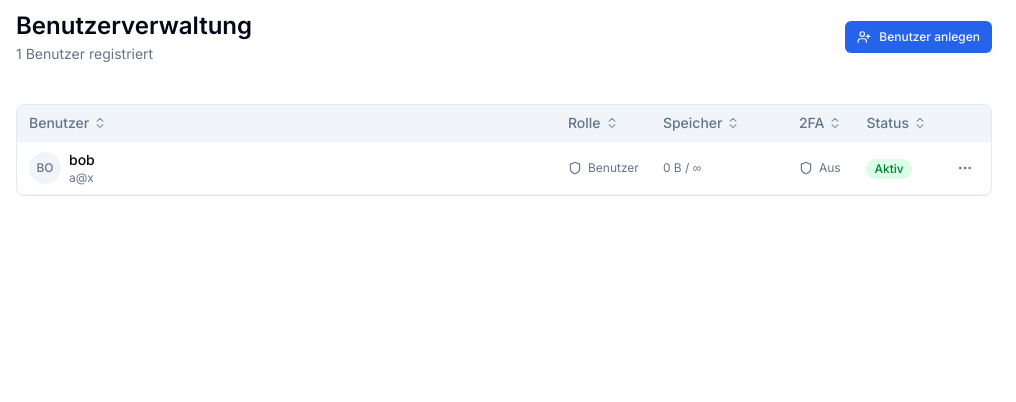
AdminPage — Rolle (via Aktionen-Menü) › Sperren-Eintrag ruft setActive(false) fuer einen fremden aktiven User
Click the button named "Aktionen" at (965, 168), box [951,154,979,182]
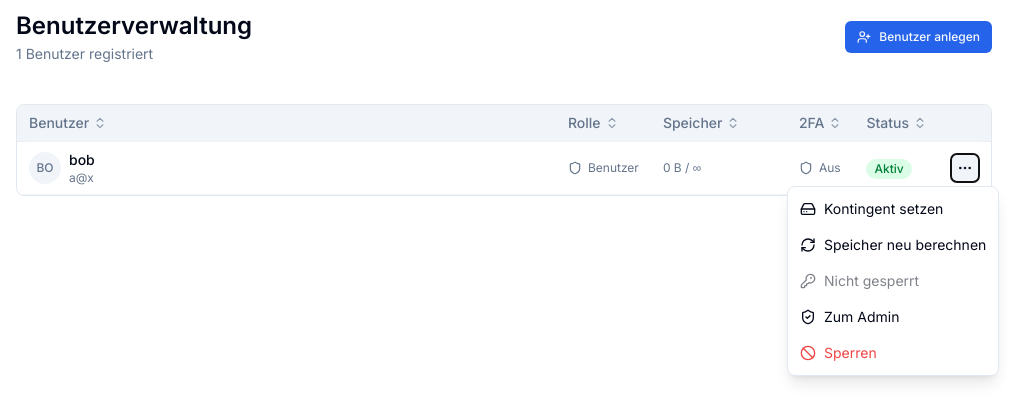
Click the menu item "Sperren" at (893, 353), box [788,335,998,371]
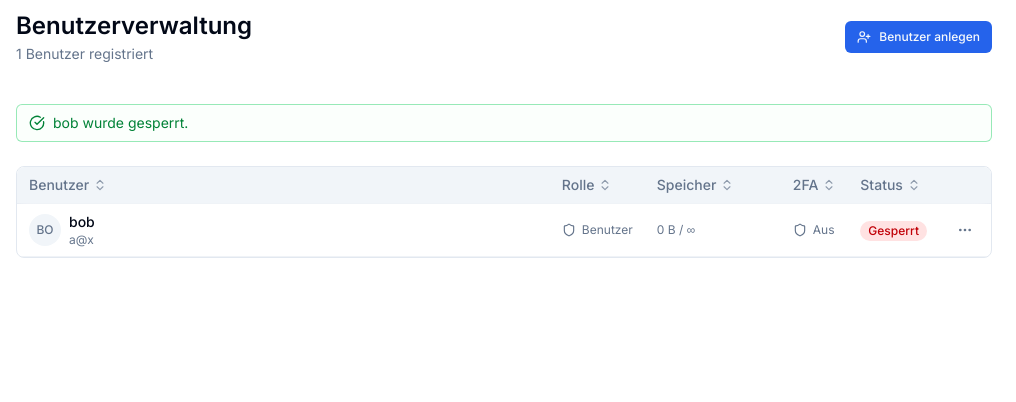
Check: the text "bob wurde gesperrt." is shown, box [16,104,992,142]
